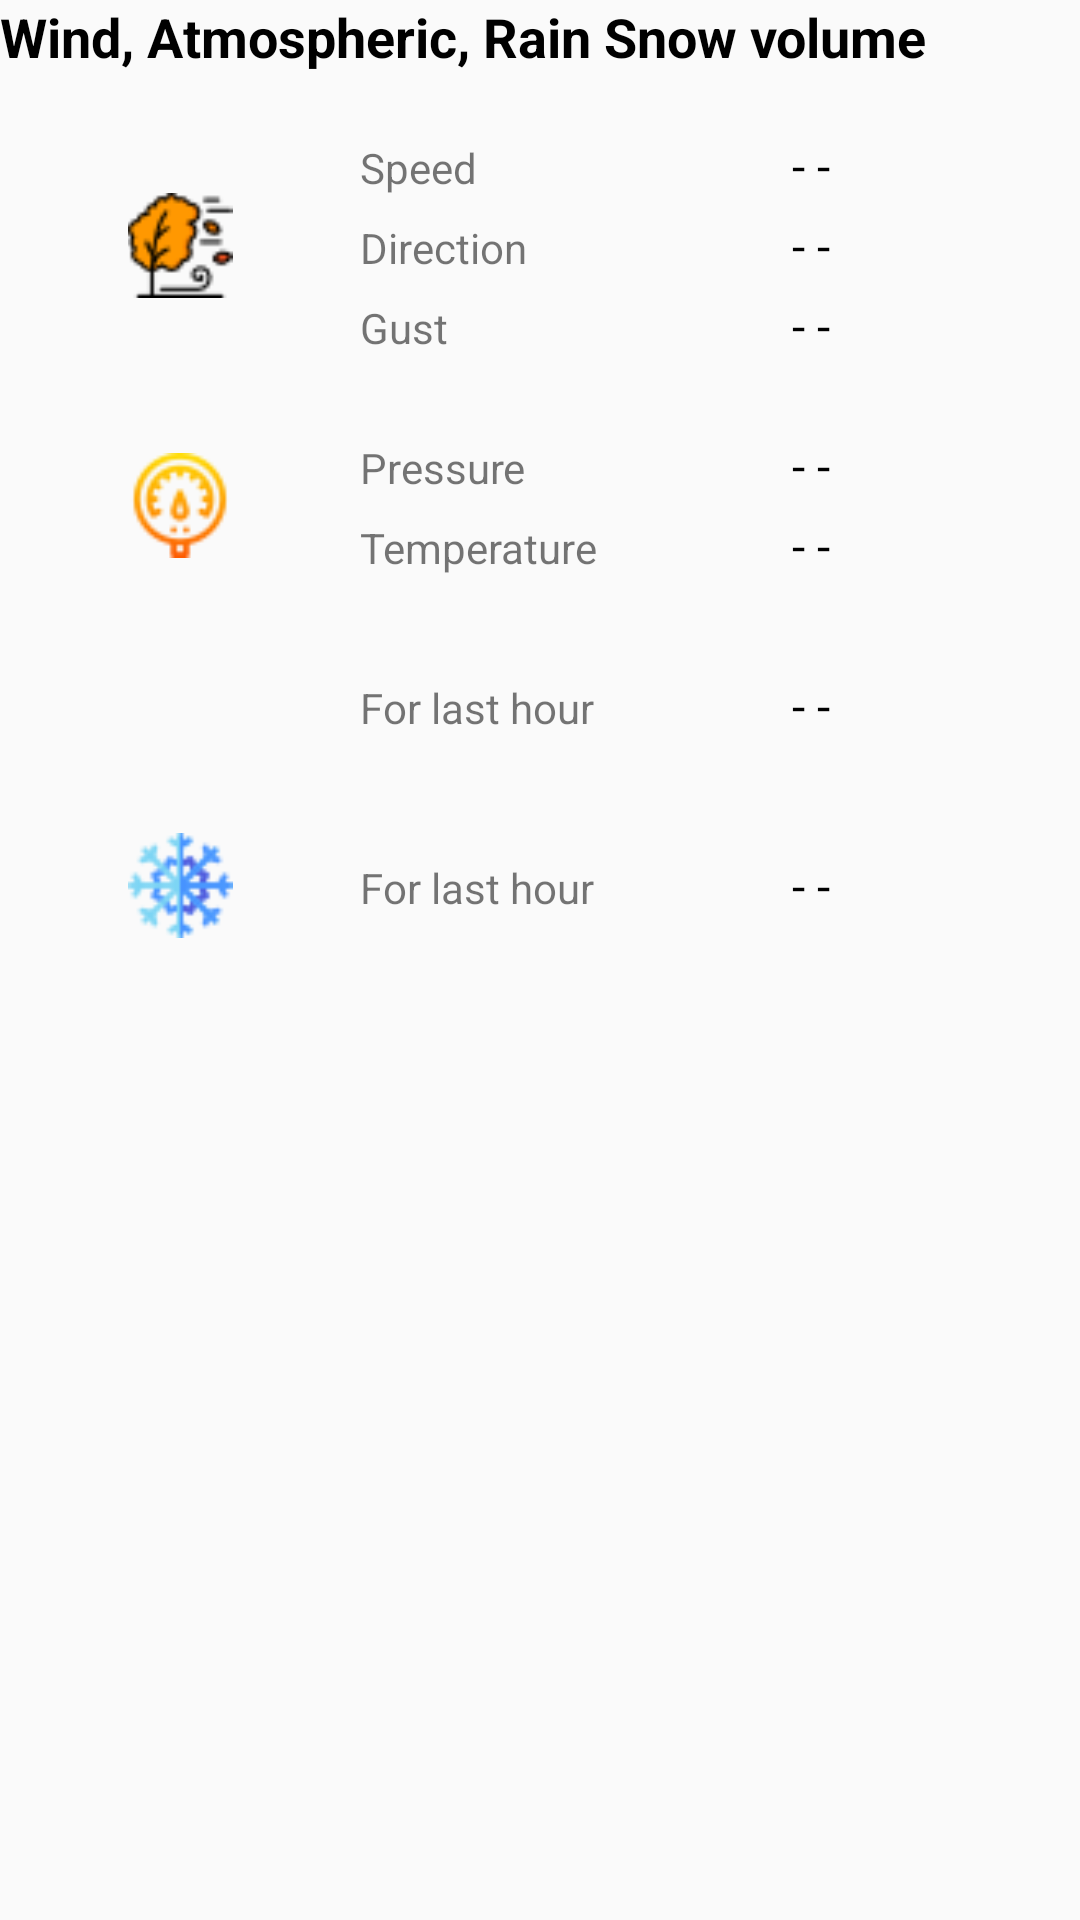

Named icons in this screenshot (1080px×1920px) and their bounding boxes, (x1, y1, x2, y2):
atmospheric: (133, 453, 227, 558)
snow: (128, 833, 233, 938)
